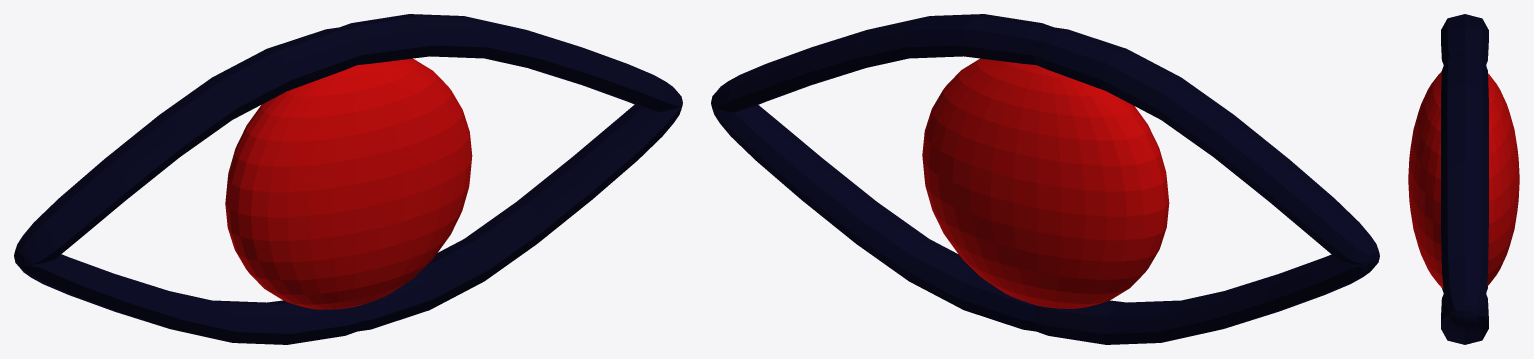
The model's file is Eye.fbx.
The picture shows the model from 3 angles, left to right: view 1: azimuth 30°, elevation 25°; view 2: azimuth 150°, elevation 25°; view 3: azimuth 270°, elevation 25°; orthographic projection. The views are drawn at different scales.
Visible parts, largest first — view 1: Cube, Sphere; view 2: Cube, Sphere; view 3: Cube, Sphere.
Boxes of the visible parts, x1,y1,x2,y2 form: Cube: (14,14,682,344); Sphere: (225,58,472,309); Cube: (711,14,1379,344); Sphere: (922,58,1169,308); Cube: (1441,14,1488,344); Sphere: (1408,71,1519,288).
Bounding box in the file's own units: 123 × 53.65 × 20.94.
